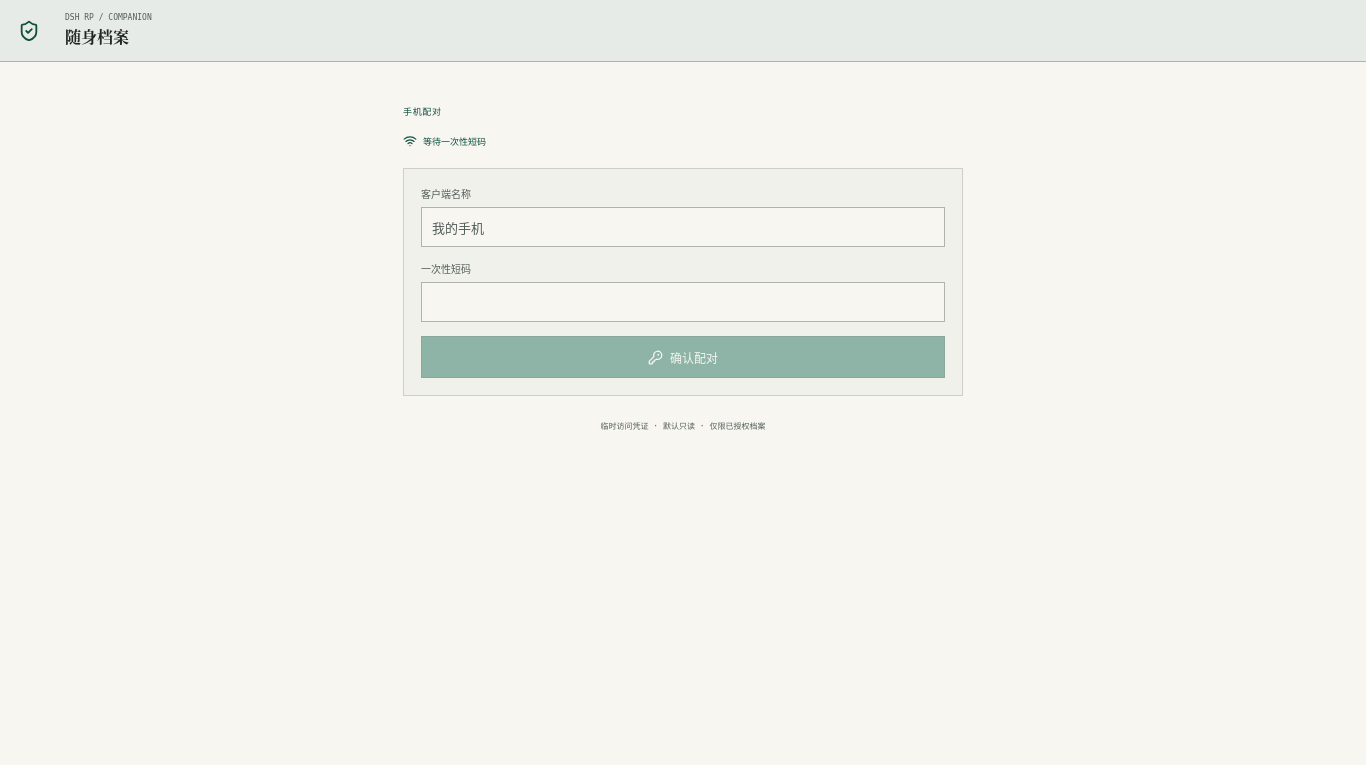
Test: companion session isolation › bounds and deduplicates reset snapshots and incoming notifications to the newest 100
The image size is (1366, 765).
Type "one-time-code-123456789" into the field named "一次性配对短码" at x=683, y=302, box [421,282,945,322]
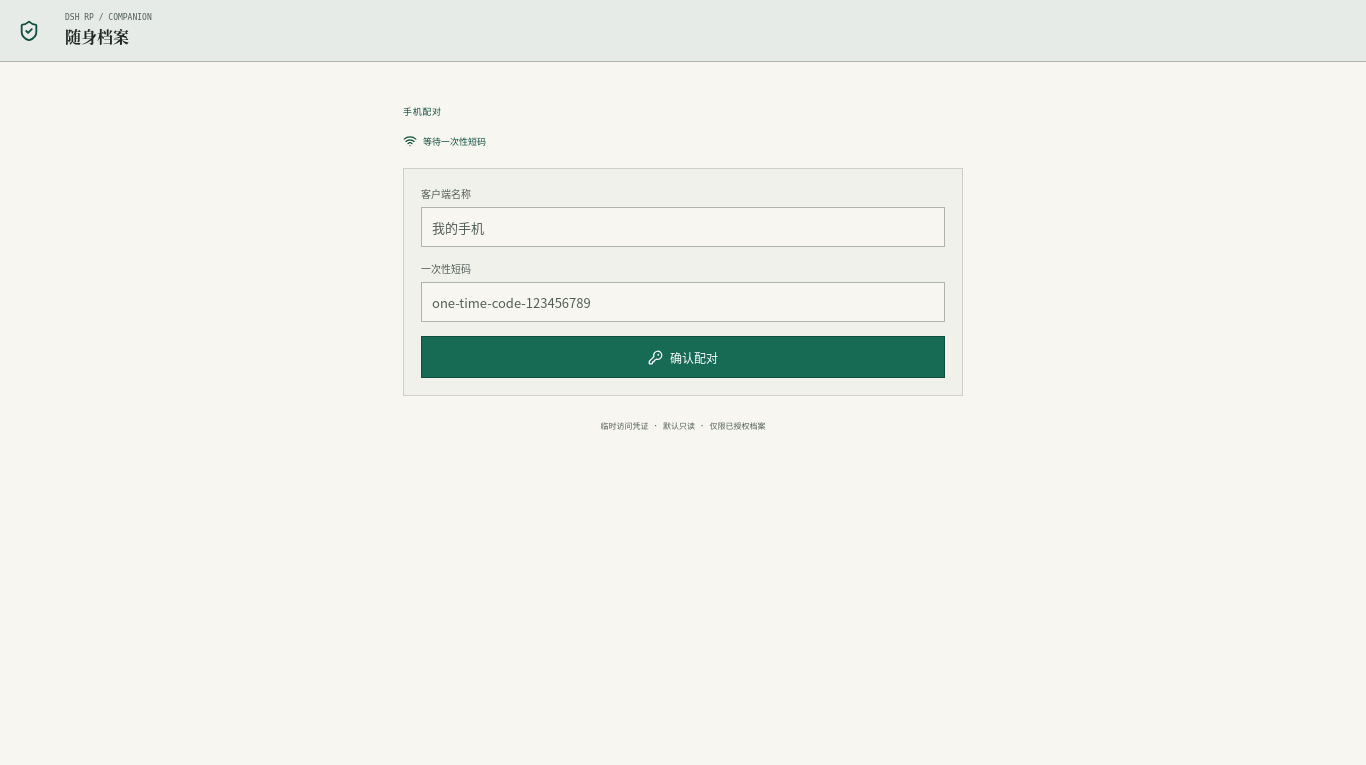
Click the button "确认配对" at x=683, y=357, box [421,336,945,378]
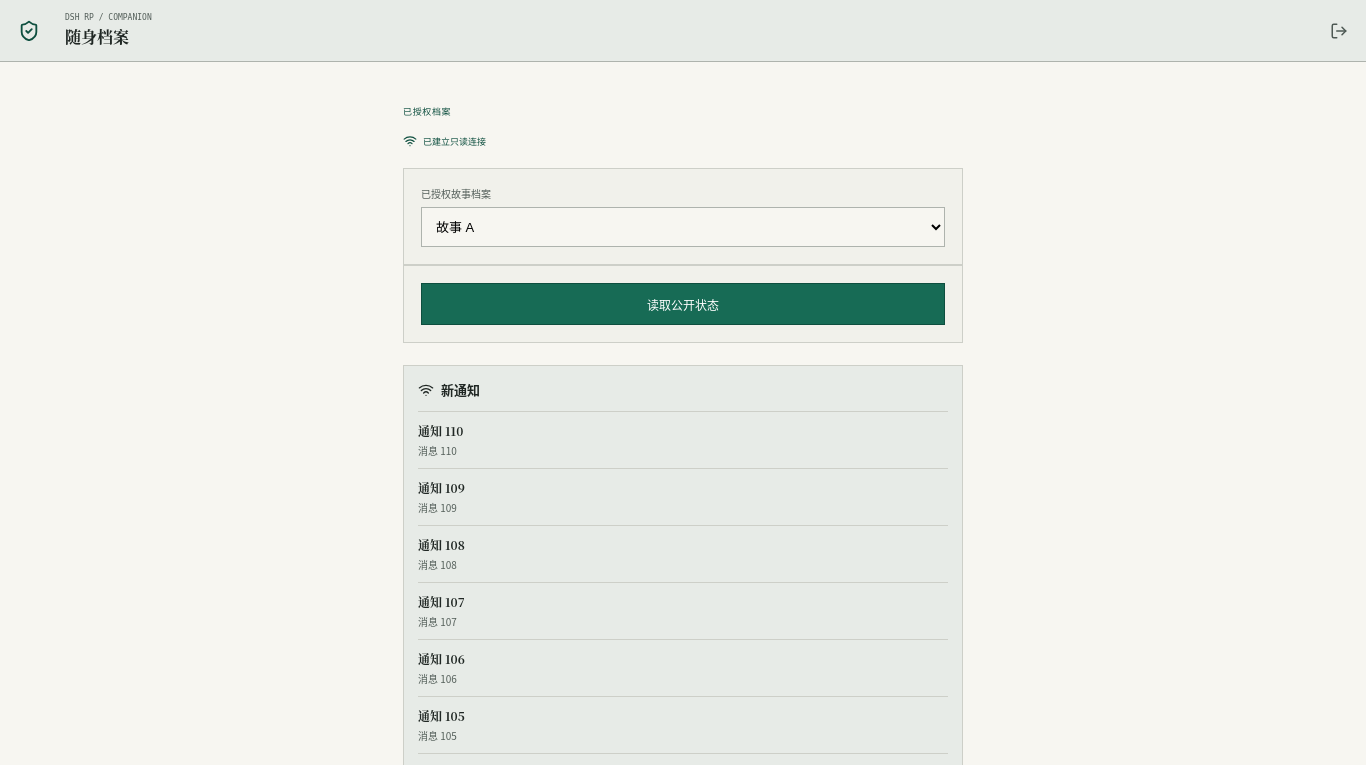
expect the dropdown labelled "已授权故事档案" is shown: met, box [421,207,945,247]
expect the text "通知 110" is shown 100 times: met
expect the text "通知 110" is shown: met, box [418,422,463,439]
